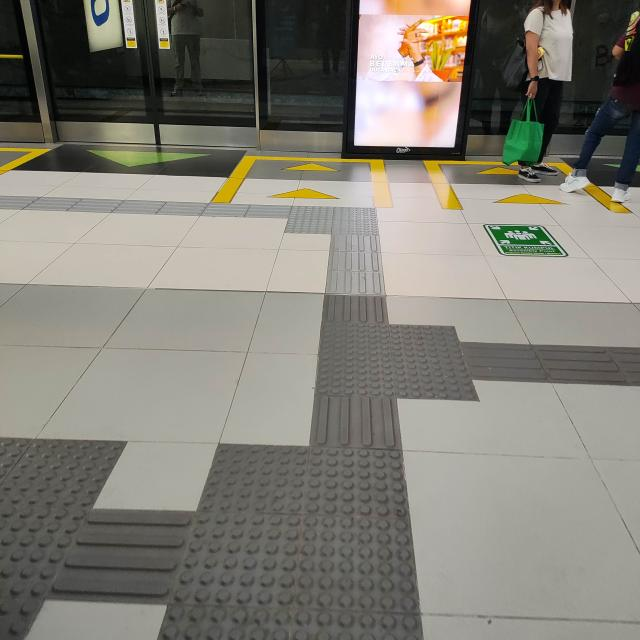kiri: (216, 177, 390, 253)
